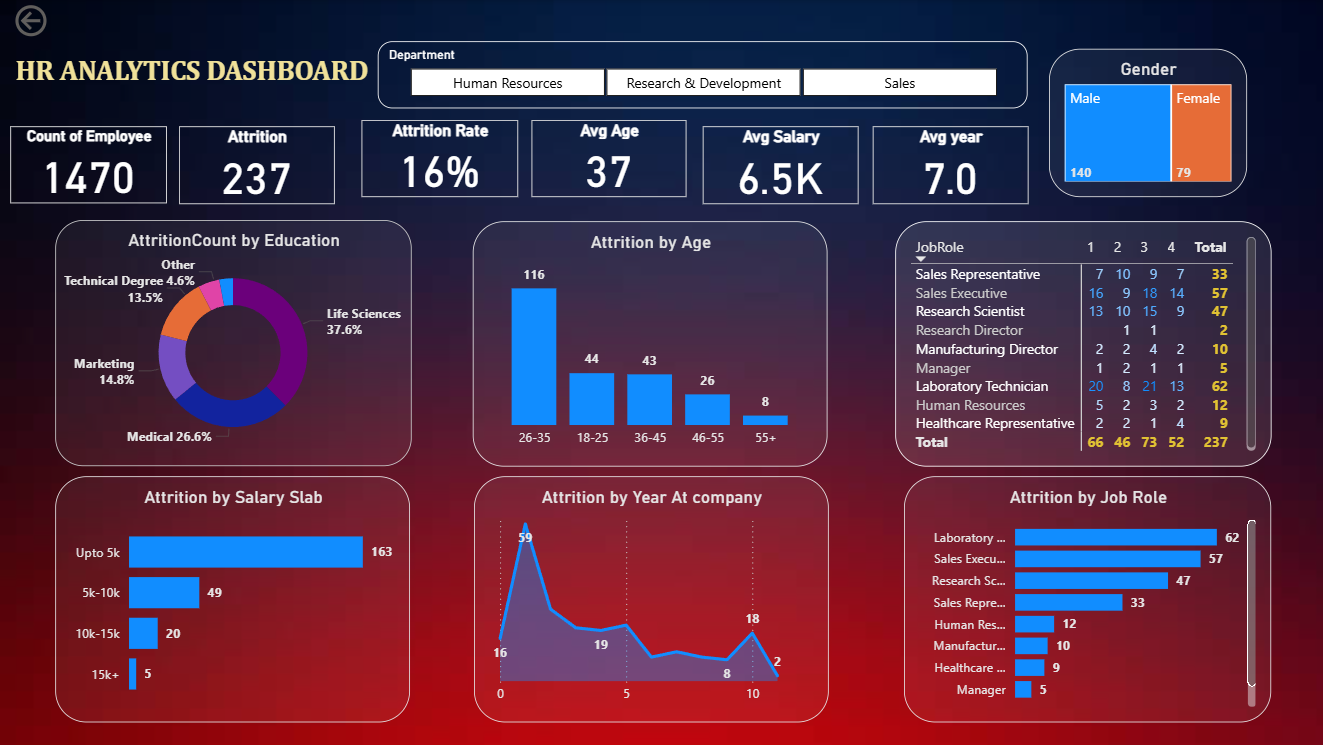

The page's visual inventory and layout, read from the dashboard file:
{"tool":"powerbi","page":{"name":"Page 1","canvas":[1280,720],"ordinal":0},"visuals":[{"type":"card","title":"Count of Employee","fields":{"Values":["CountNonNull(HR_Analytics.EmpID)"]},"box":[10.9,121.9,150.8,74.8],"z":0},{"type":"actionButton","box":[10.9,0,100,40],"z":1000},{"type":"card","title":"Attrition Rate","fields":{"Values":["HR_Analytics.AttritionRate"]},"box":[349.9,115.8,150.8,74.8],"z":2000},{"type":"card","title":"Attrition","fields":{"Values":["HR_Analytics.AttritionCount"]},"box":[173.9,121.6,150,75],"z":3000},{"type":"card","title":"Avg Age","fields":{"Values":["Avg(HR_Analytics.Age)"]},"box":[513.9,115.8,149.6,74.8],"z":4000},{"type":"card","title":"Avg Salary","fields":{"Values":["Avg(HR_Analytics.MonthlyIncome)"]},"box":[679.5,121.6,150,75],"z":5000},{"type":"card","title":"Avg year","fields":{"Values":["Avg(HR_Analytics.YearsAtCompany)"]},"box":[843.2,121.6,150,75],"z":6000},{"type":"donutChart","title":"AttritionCount by Education","fields":{"Category":["HR_Analytics.EducationField"],"Y":["HR_Analytics.AttritionCount"]},"box":[54.3,212.3,343.8,237.7],"z":7000},{"type":"columnChart","title":"Attrition by Age","fields":{"Category":["HR_Analytics.AgeGroup"],"Y":["HR_Analytics.AttritionCount"]},"box":[457.2,213.5,342.6,236.5],"z":8000},{"type":"pivotTable","fields":{"Rows":["HR_Analytics.JobRole"],"Columns":["HR_Analytics.JobSatisfaction"],"Values":["HR_Analytics.AttritionCount"]},"box":[865,213.5,363.1,236.5],"z":9000},{"type":"barChart","title":"Attrition by Age","fields":{"Category":["HR_Analytics.SalarySlab"],"Y":["HR_Analytics.AttritionCount"]},"box":[54.3,459.7,342.6,237.7],"z":10000},{"type":"barChart","title":"Attrition by Age","fields":{"Category":["HR_Analytics.JobRole"],"Y":["HR_Analytics.AttritionCount"]},"box":[873.5,459.7,354.7,237.7],"z":11000},{"type":"areaChart","title":"Attrition by Age","fields":{"Category":["HR_Analytics.YearsAtCompany"],"Y":["HR_Analytics.AttritionCount"]},"box":[458,460.2,342,237.5],"z":12000},{"type":"treemap","title":"Gender","fields":{"Group":["HR_Analytics.Gender"],"Values":["HR_Analytics.AttritionCount"]},"box":[1013.6,46.6,190.9,143.2],"z":13000},{"type":"slicer","title":"Department","fields":{"Values":["HR_Analytics.Department"]},"box":[365.9,39.8,627.3,64.8],"z":14000},{"type":"textbox","box":[11.4,46.6,354.5,58],"z":15000}]}

Visuals, with their boxes in screenshot pixels (x1, y1, x2, y2), scaled from the page's 1280x720 canvas onto the 1323x745 screenshot:
"Count of Employee" card: select_region(11, 126, 167, 204)
actionButton: select_region(11, 0, 115, 41)
"Attrition Rate" card: select_region(362, 120, 518, 197)
"Attrition" card: select_region(180, 126, 335, 203)
"Avg Age" card: select_region(531, 120, 686, 197)
"Avg Salary" card: select_region(702, 126, 857, 203)
"Avg year" card: select_region(872, 126, 1027, 203)
"AttritionCount by Education" donutChart: select_region(56, 220, 411, 466)
"Attrition by Age" columnChart: select_region(473, 221, 827, 466)
pivotTable - HR_Analytics.JobRole x HR_Analytics.JobSatisfaction: select_region(894, 221, 1269, 466)
"Attrition by Age" barChart: select_region(56, 476, 410, 722)
"Attrition by Age" barChart: select_region(903, 476, 1269, 722)
"Attrition by Age" areaChart: select_region(473, 476, 827, 722)
"Gender" treemap: select_region(1048, 48, 1245, 196)
"Department" slicer: select_region(378, 41, 1027, 108)
textbox: select_region(12, 48, 378, 108)
